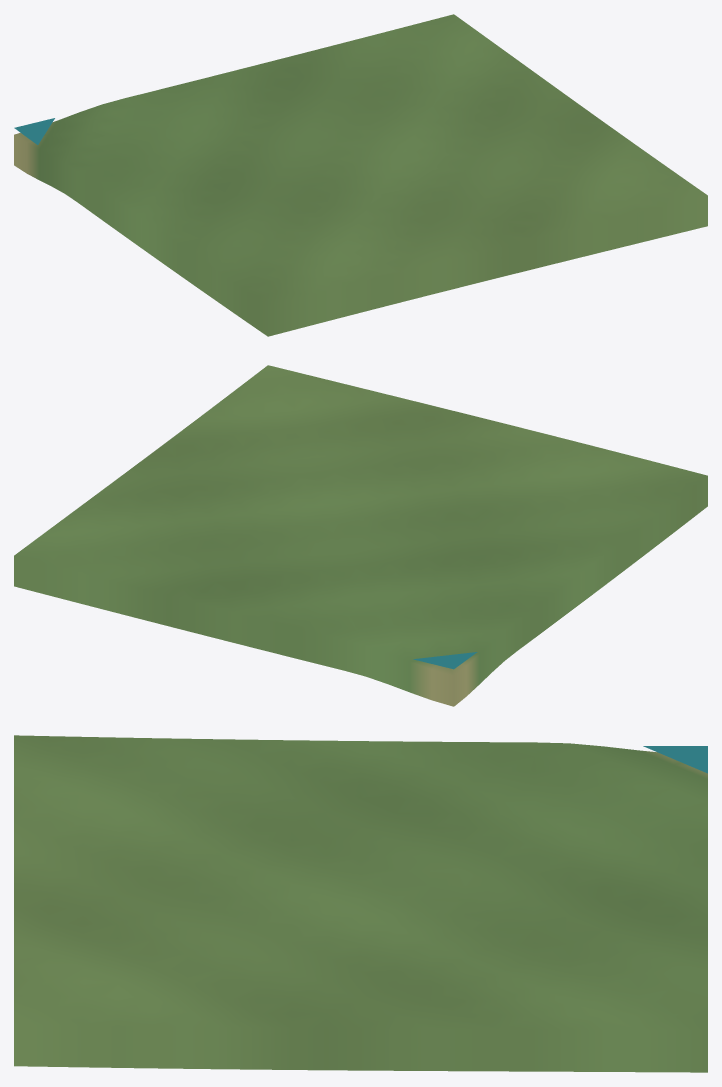
3 renders of one model, top to bottom at view 1: azimuth 30°, elevation 25°; view 2: azimuth 150°, elevation 25°; view 3: azimuth 270°, elevation 25°, orthographic. The views are drawn at different scales.
Visible parts, largest first — view 1: terrain, scenery; view 2: terrain; view 3: terrain, scenery.
Part boxes in pixels (box(x1,y1,x2,y2)): terrain: box(14, 14, 707, 336); scenery: box(14, 118, 54, 144); terrain: box(14, 365, 707, 706); terrain: box(14, 735, 707, 1072); scenery: box(643, 746, 707, 773).
Size of the model in its own units: 30 by 3.15 by 30.
